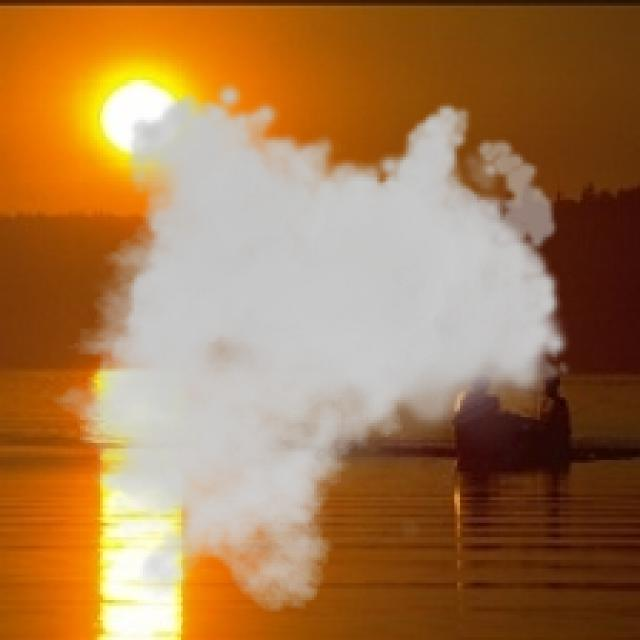smoke: (34, 80, 572, 614)
